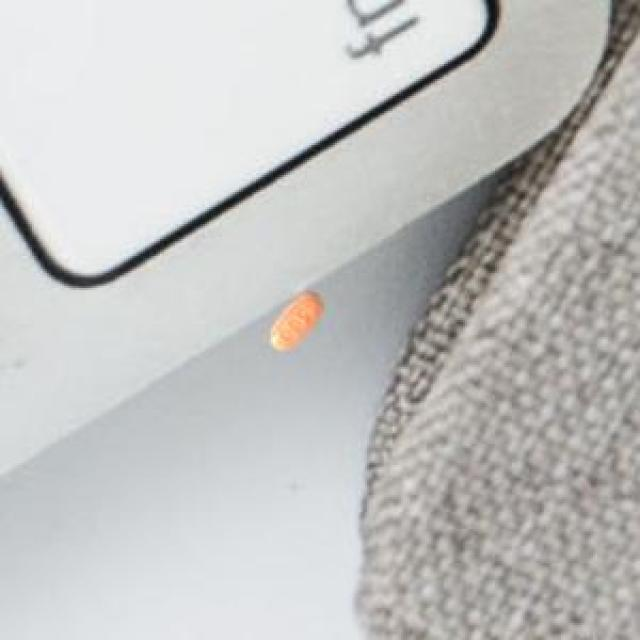Biogesic: (258, 282, 325, 363)
